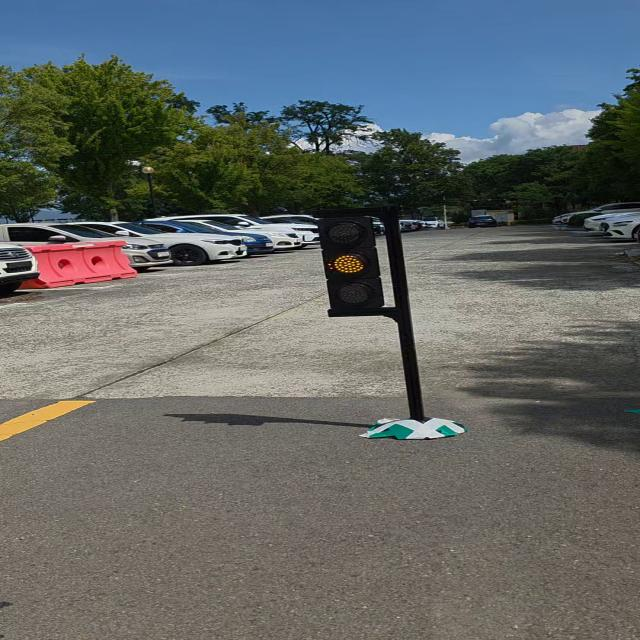yellow: (314, 214, 393, 318)
